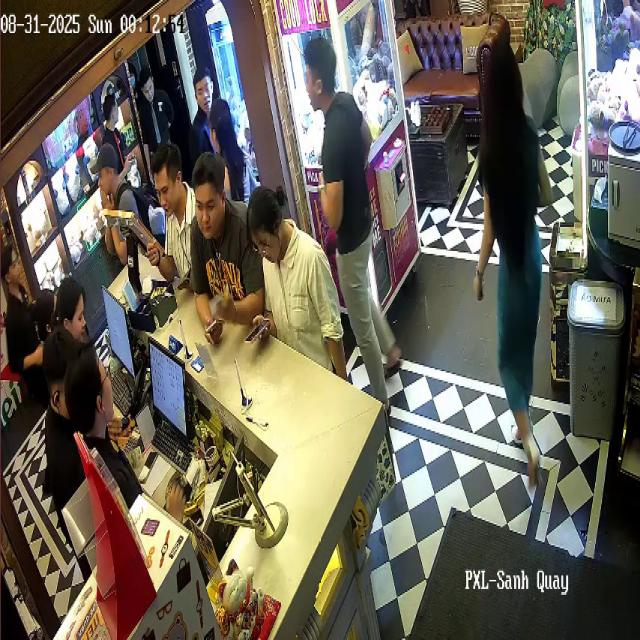khach: (472, 40, 555, 521), (305, 24, 403, 411), (242, 172, 350, 394), (189, 145, 265, 338), (142, 135, 202, 297), (94, 140, 148, 268), (210, 100, 258, 209)
nhan vien: (65, 348, 146, 513), (42, 337, 74, 514), (0, 238, 36, 392), (192, 55, 242, 140), (49, 262, 83, 345), (138, 66, 174, 140), (104, 88, 136, 171)
